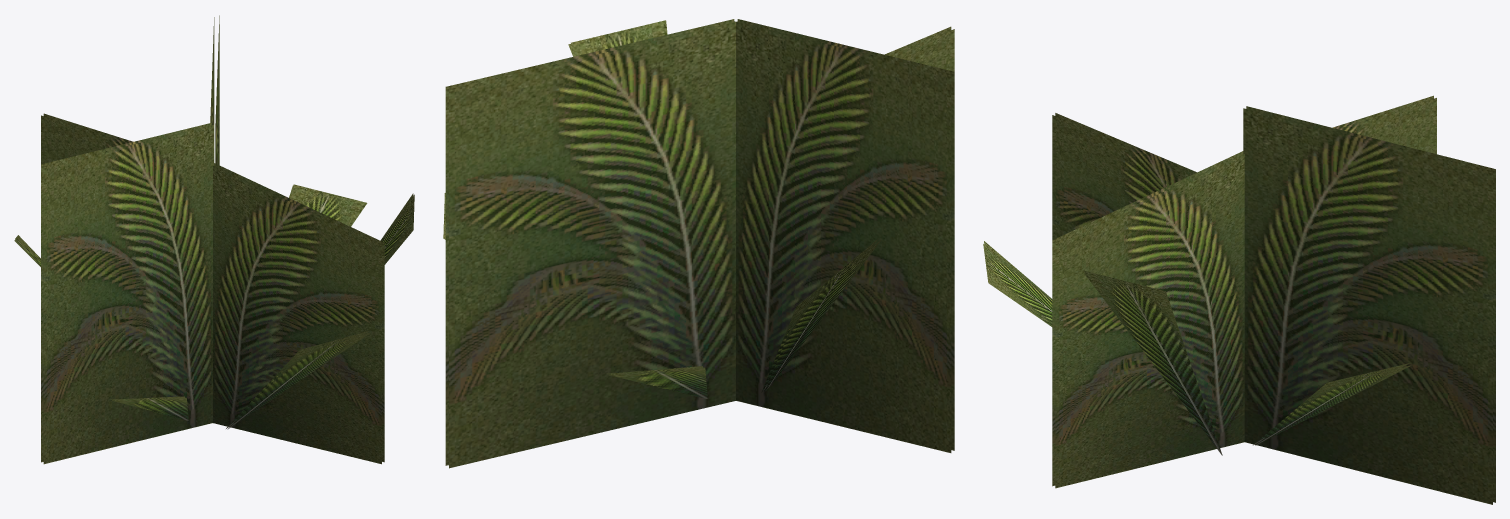
Rendered from frst_fern_brown_jumbo1_l2.fbx.
The picture shows the model from 3 angles, left to right: view 1: azimuth 30°, elevation 25°; view 2: azimuth 150°, elevation 25°; view 3: azimuth 270°, elevation 25°; orthographic projection. The views are drawn at different scales.
Visible parts, largest first — view 1: mesh_node; view 2: mesh_node; view 3: mesh_node.
Part boxes in pixels (x1,y1,x2,y2): mesh_node: (14,15,414,464); mesh_node: (443,19,954,468); mesh_node: (983,95,1495,504).
Bounding box in the file's own units: 2.75 × 2.16 × 3.01.
